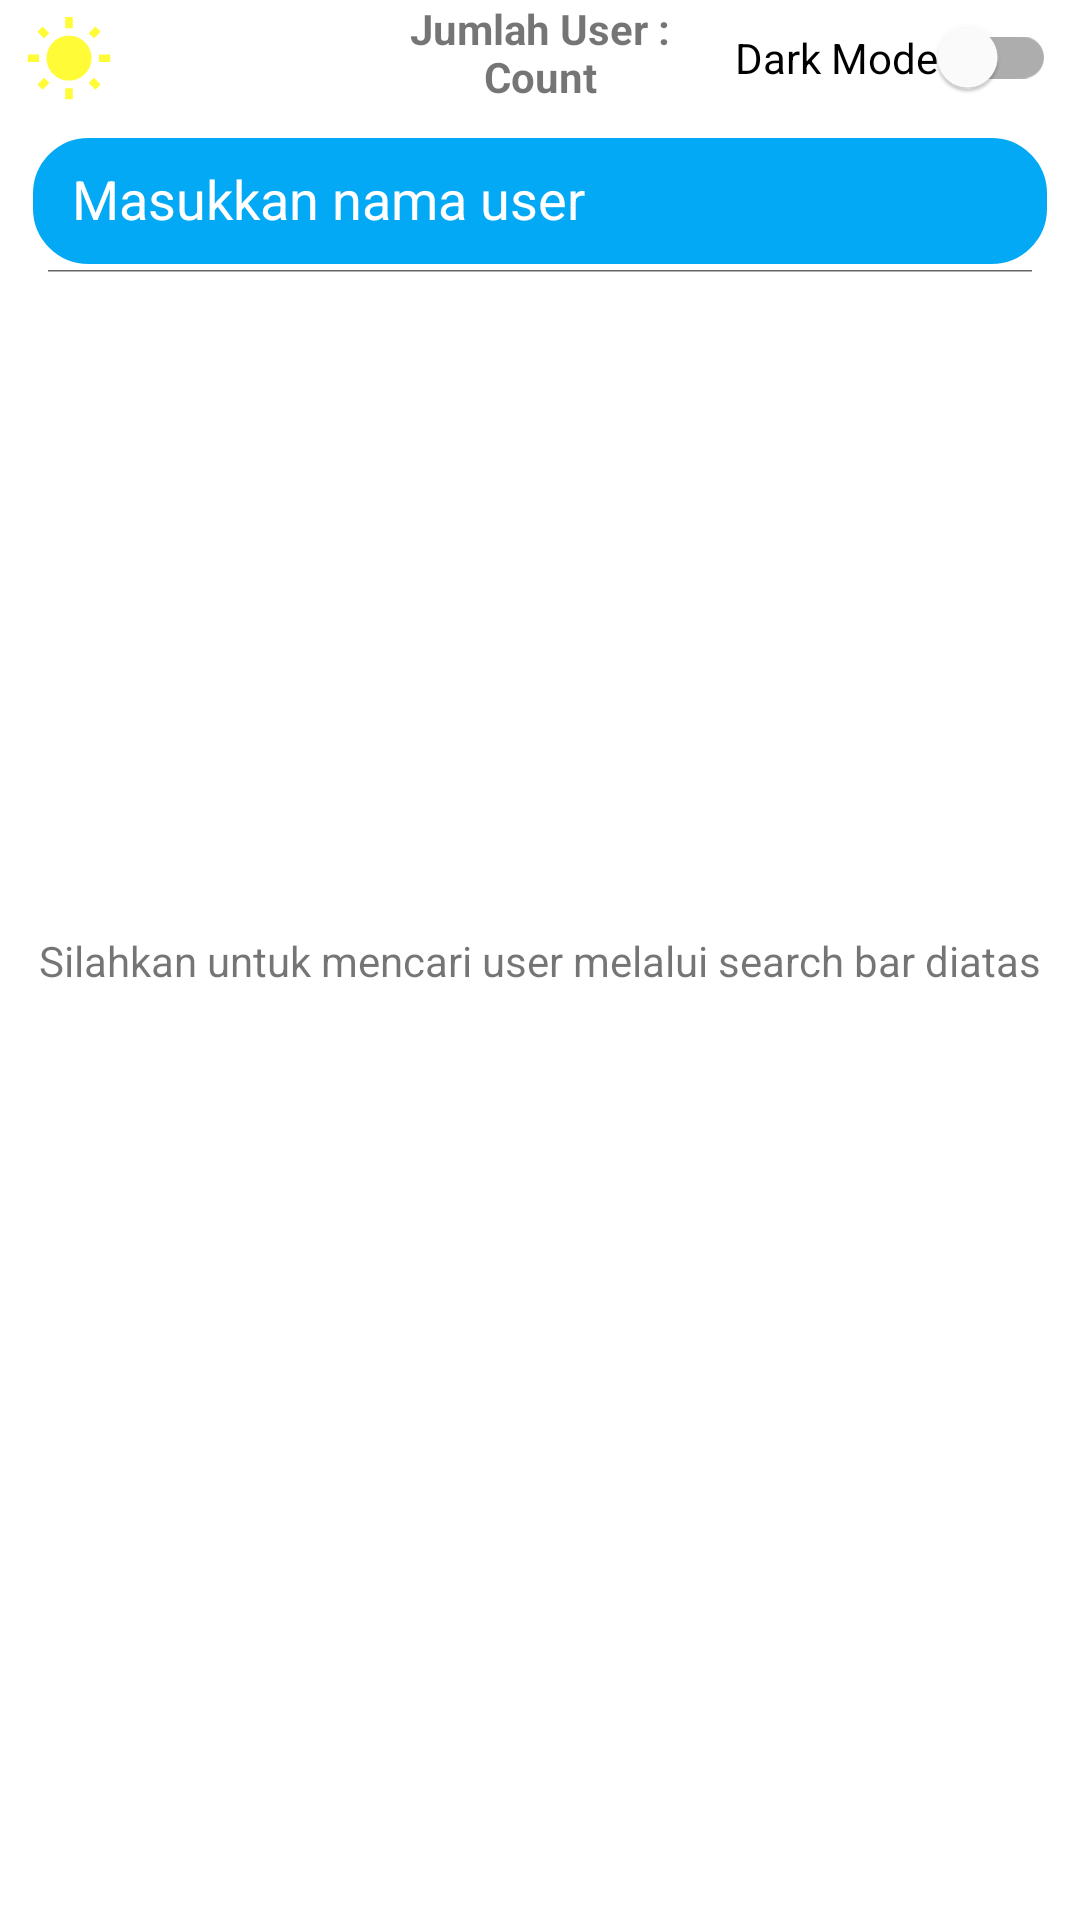

Icons on this 1080×1920 Android screen, each with the point to tap as [x,y]:
sunny: [69,58]
